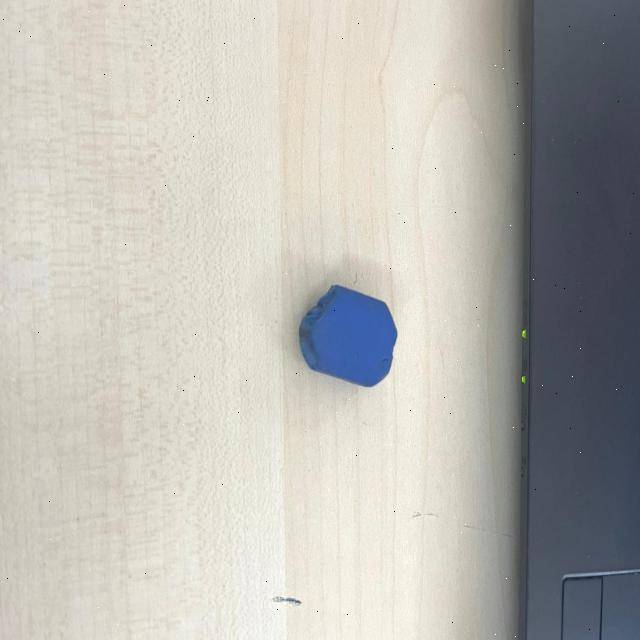eraser: (292, 281, 407, 390)
